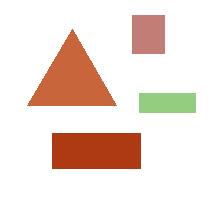rectangle: (52, 133, 140, 168), (132, 15, 164, 53), (139, 93, 195, 112)
triangle: (27, 29, 116, 105)
